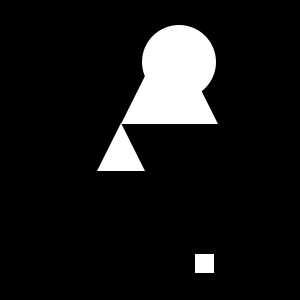circle: (195, 254, 214, 273)
rectangle: (142, 25, 216, 99)
triangle: (121, 27, 218, 124), (97, 123, 145, 171)
